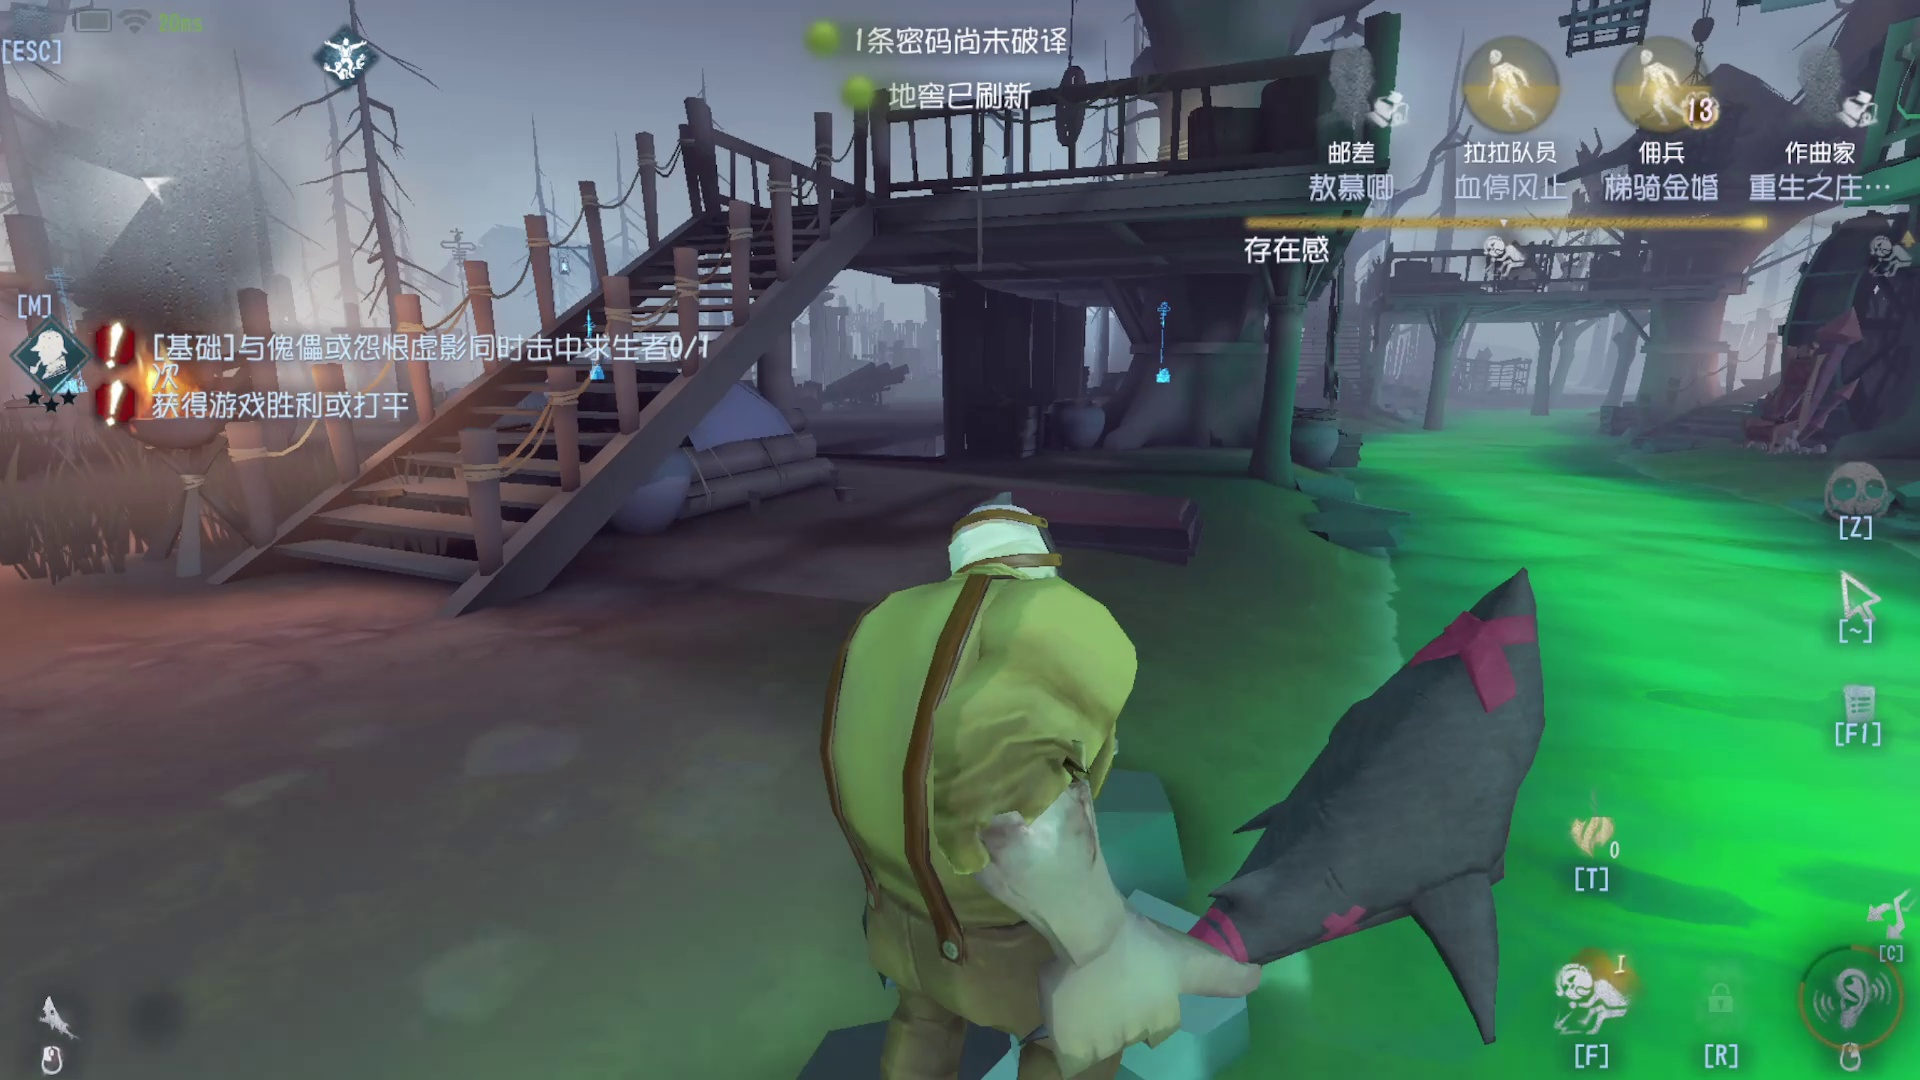密码机: (1131, 280, 1189, 398)
